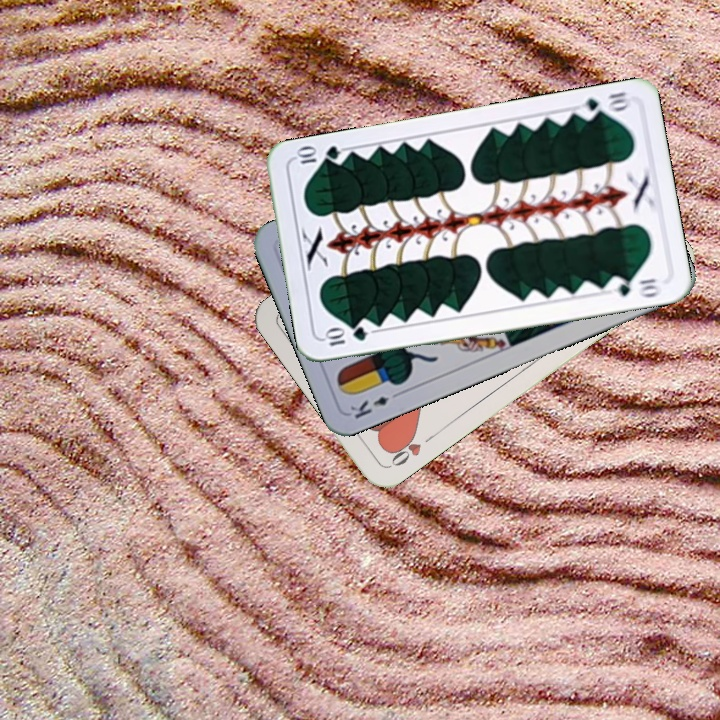EK: (346, 387, 404, 422)
G10: (574, 87, 634, 122), (320, 323, 370, 349)
HO: (384, 429, 438, 470)
